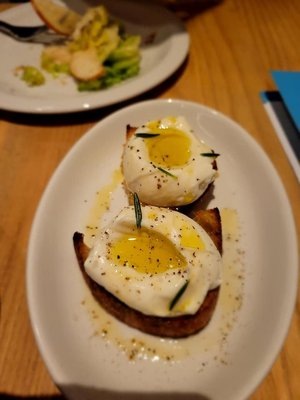sushi: (10, 98, 300, 398)
